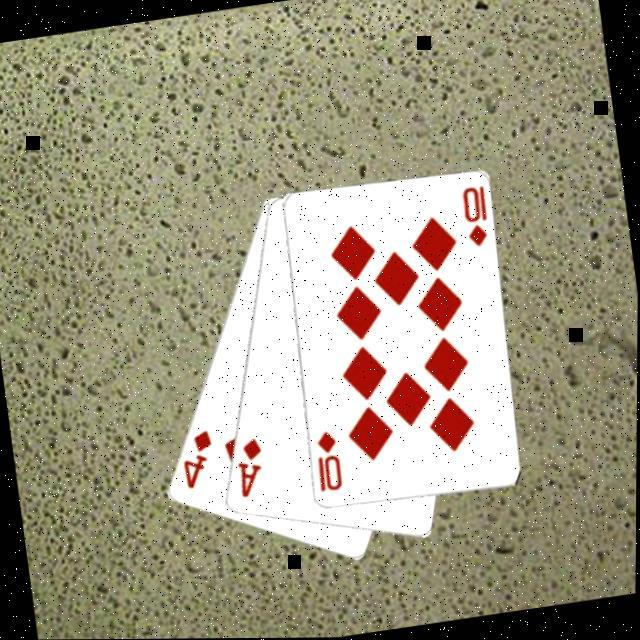10D: (458, 181, 495, 250), (310, 426, 347, 494)
4D: (176, 424, 221, 491)
AD: (231, 432, 271, 500)
